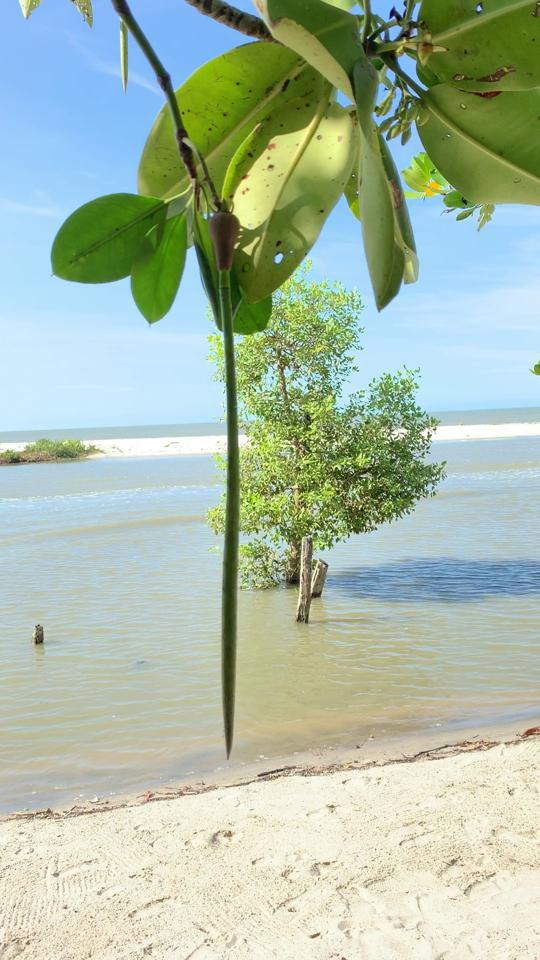setengah matang: (200, 186, 254, 760)
